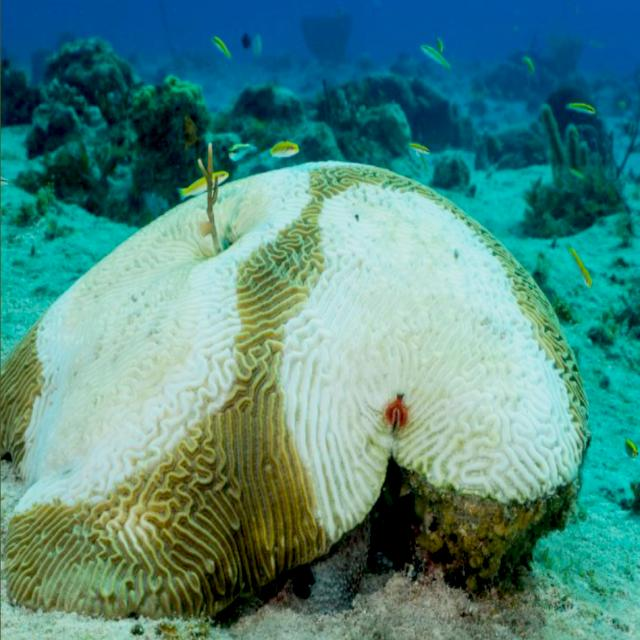Coral: (0, 161, 591, 622)
